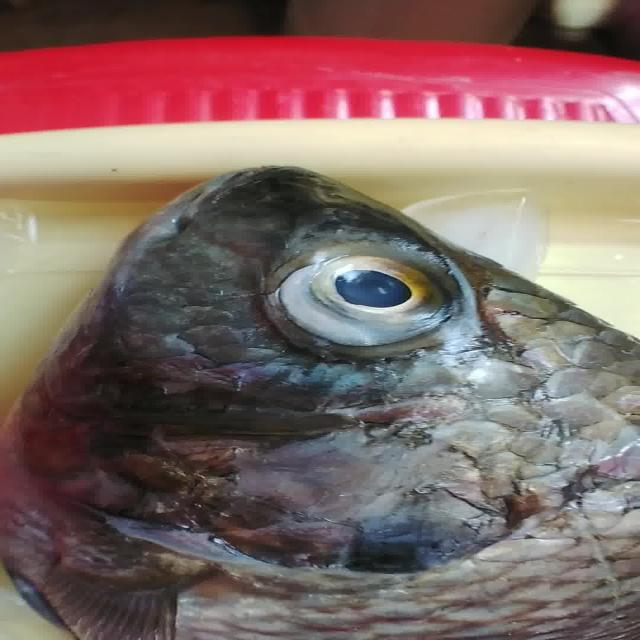Fresh: (263, 232, 481, 360)
